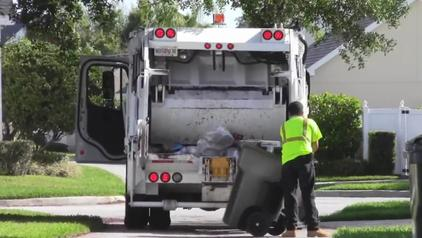stay: (278, 91, 322, 225)
